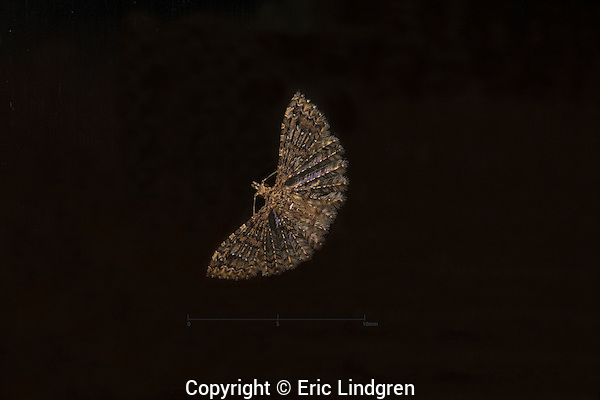Alucitidae: (203, 88, 355, 289)
moth: (201, 86, 353, 287)
